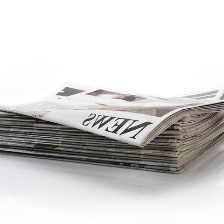news_paper: (0, 81, 224, 181), (0, 82, 224, 148)
